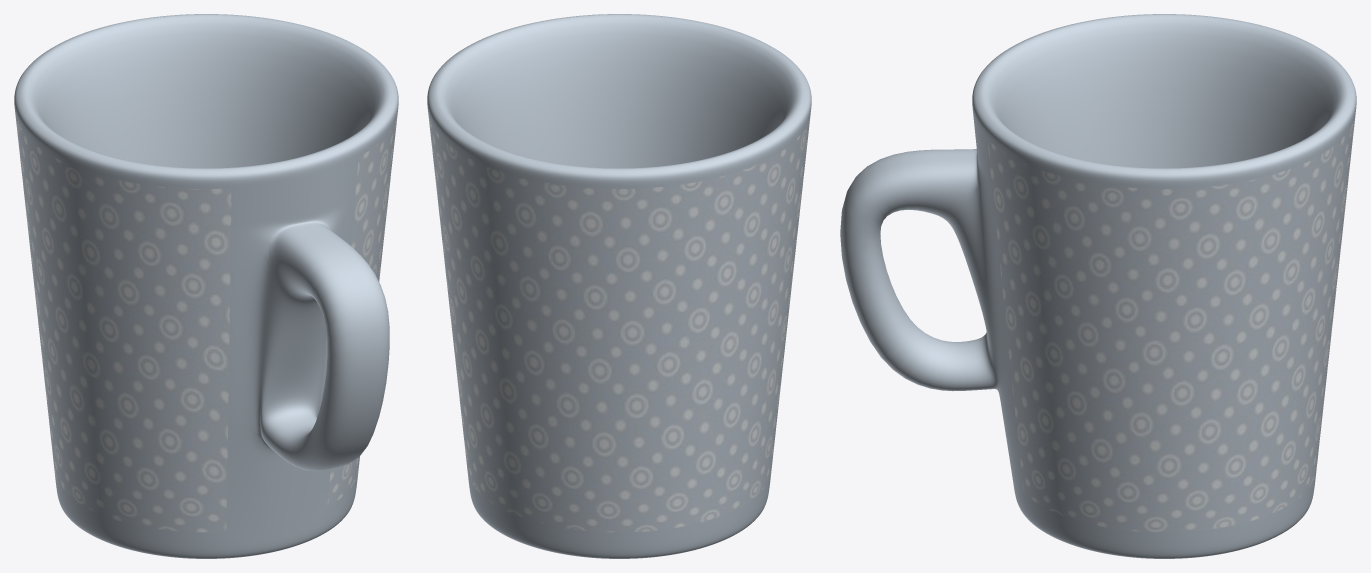
File: mug.glb
3 views of the same model, side by side, from view 1: azimuth 30°, elevation 25°; view 2: azimuth 150°, elevation 25°; view 3: azimuth 270°, elevation 25° (orthographic).
Visible parts, largest first — view 1: Circle; view 2: Circle; view 3: Circle.
Boxes of the visible parts, box(x1,y1,x2,y2) form: Circle: box(14, 14, 398, 558); Circle: box(427, 14, 811, 558); Circle: box(840, 14, 1356, 558).
Bounding box in the file's own units: 2.57 × 3.01 × 3.45.
Materials: 1 (1 with a texture image).
